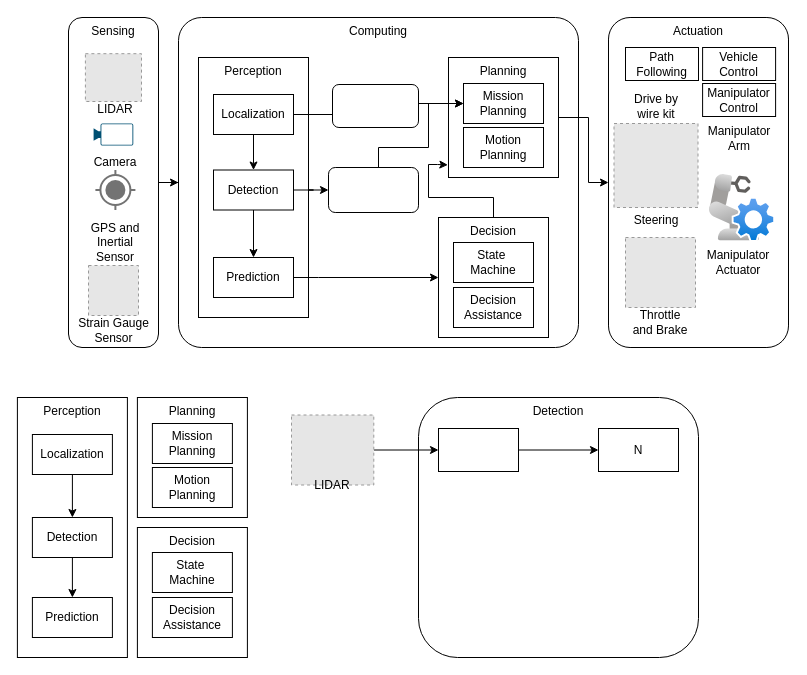
This 807x675 diagram has some shape labels left out. Grey dashed boxes stand in for pictures. The centre of each missing label's shape, as x and y in pixels:
"Objects, Lanes, Palm Fruits" belongs at point 373,189.
"Relative Position" belongs at point 375,106.
"Voxel point cloud" belongs at point 478,450.
